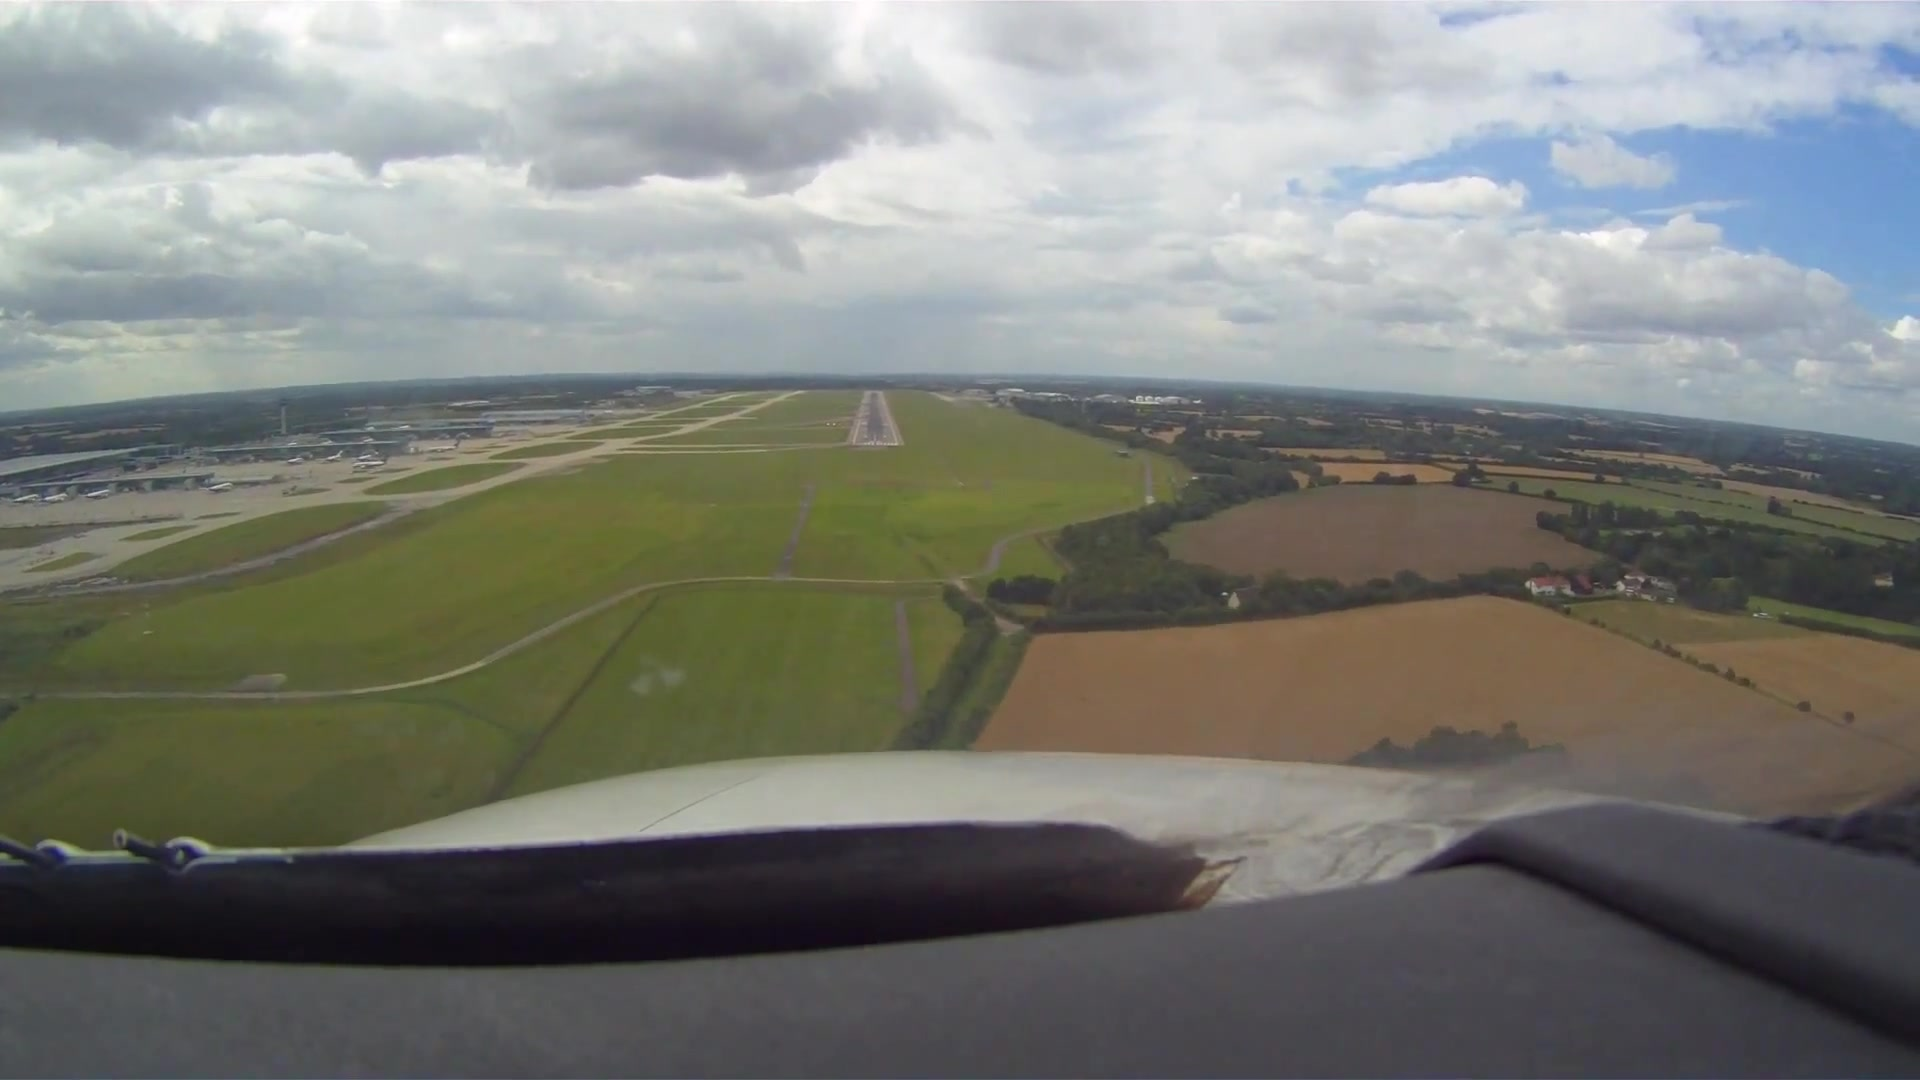entrance: (851, 442, 899, 447)
runway: (843, 386, 905, 448)
